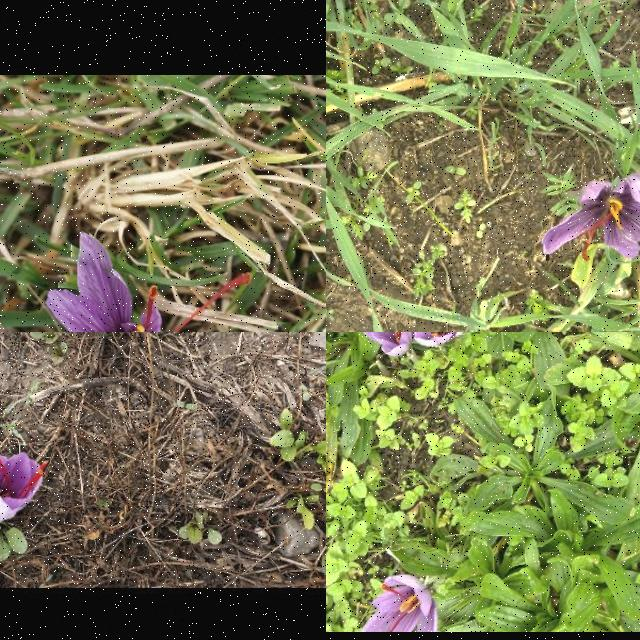flower: (24, 231, 251, 332), (541, 174, 640, 263), (362, 576, 440, 632), (0, 451, 48, 523), (358, 332, 413, 358), (412, 332, 474, 347)
